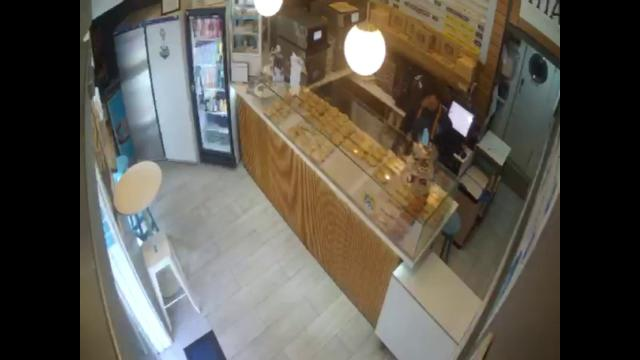empleado: (399, 69, 452, 158)
